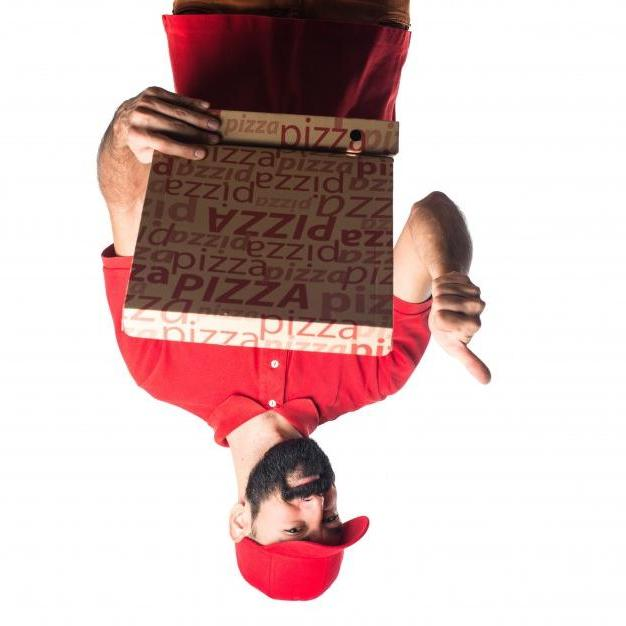thumbsdown: (432, 271, 491, 385)
